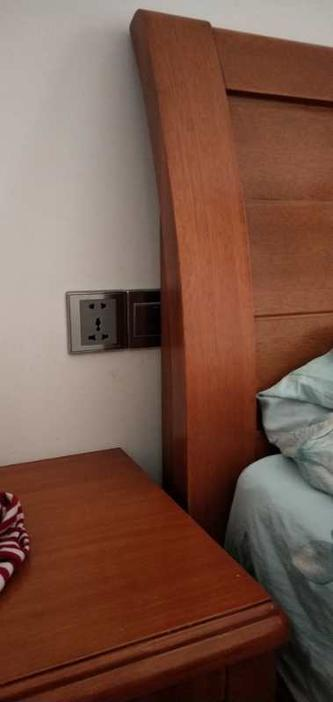switch: (134, 299, 167, 339)
